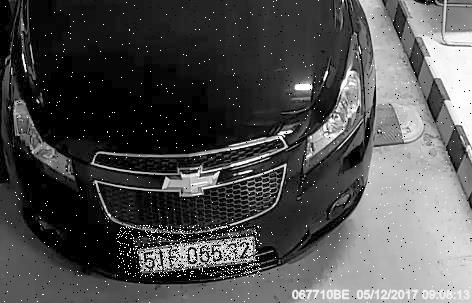License-plate: (118, 226, 262, 278)
